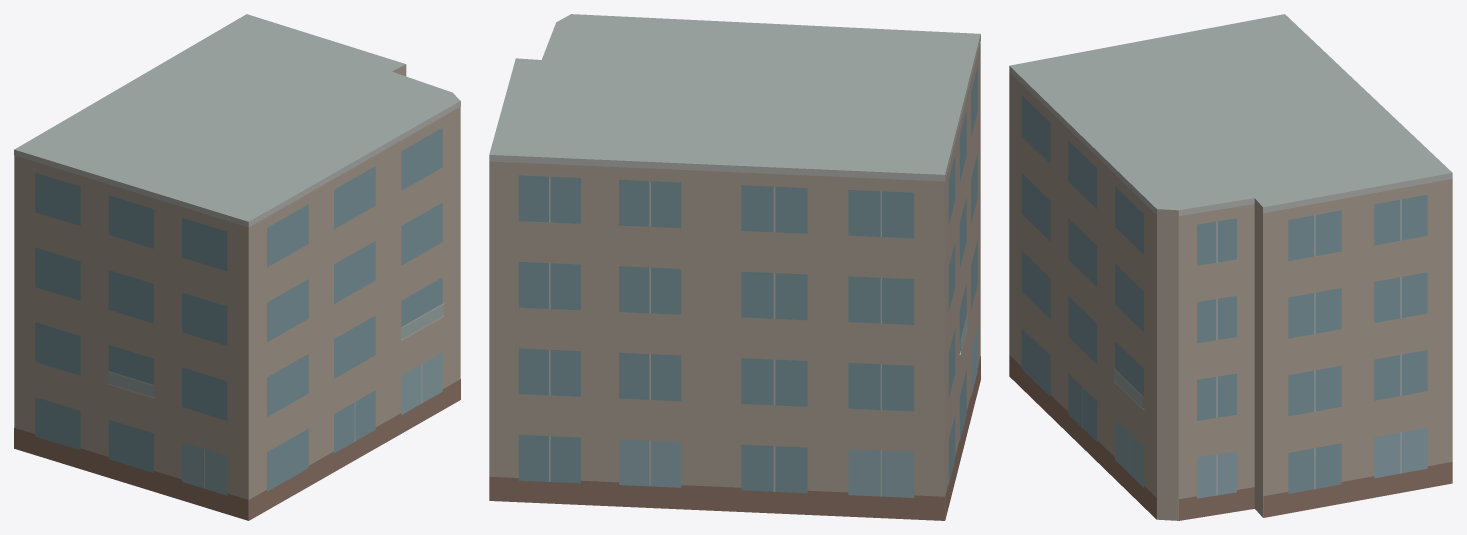
The model's file is survey-upis-32735375.glb.
The picture shows the model from 3 angles, left to right: view 1: azimuth 30°, elevation 25°; view 2: azimuth 150°, elevation 25°; view 3: azimuth 270°, elevation 25°; orthographic projection. The views are drawn at different scales.
Visible parts, largest first — view 1: survey-upis-32735375.tmp; view 2: survey-upis-32735375.tmp; view 3: survey-upis-32735375.tmp.
Part boxes in pixels (left/top/right/bottom): survey-upis-32735375.tmp: left=14, top=14, right=460, bottom=520; survey-upis-32735375.tmp: left=489, top=14, right=980, bottom=520; survey-upis-32735375.tmp: left=1009, top=14, right=1452, bottom=520.
Size of the model in its own units: 17.36 by 12.8 by 16.57.
